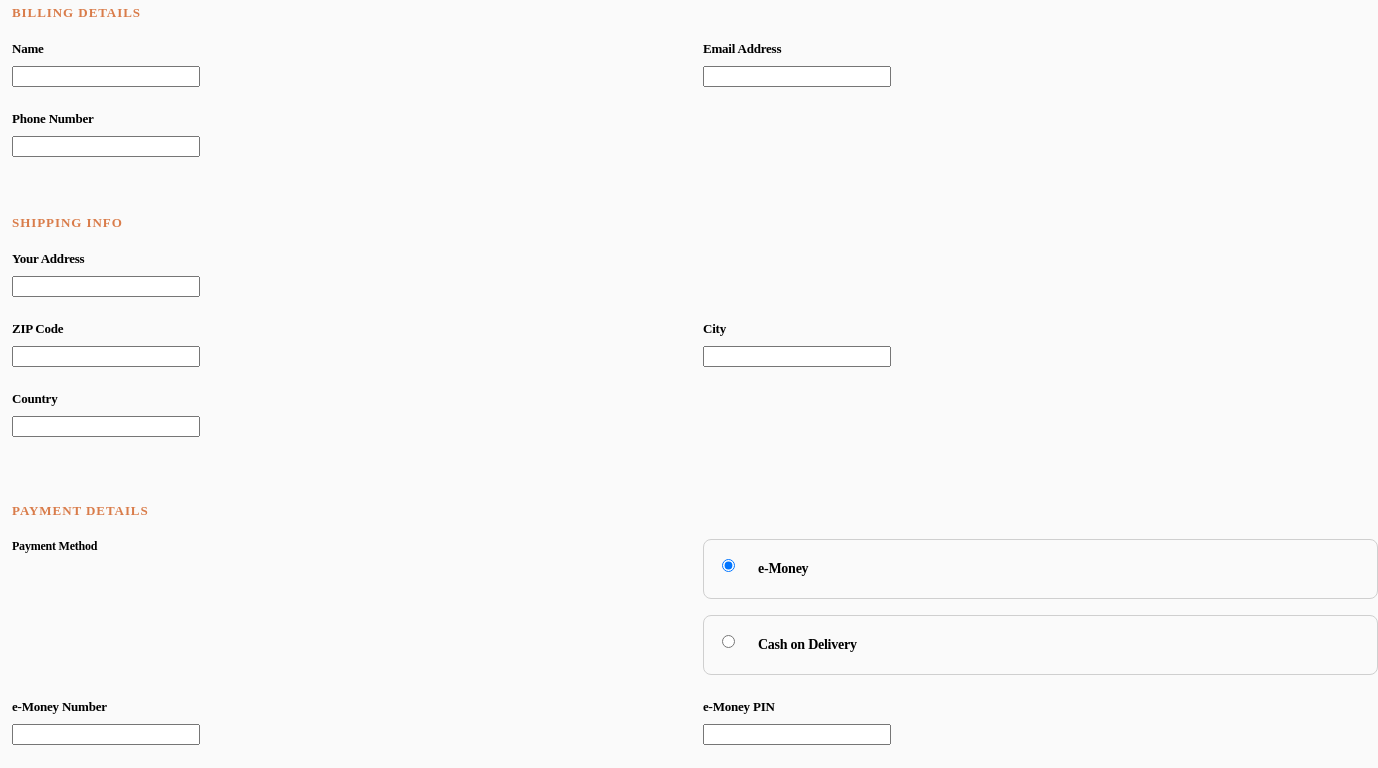
Scenario: BillingDetails › Interactions › Form validation › hides the required error message in Name field after non-empty value is inputted
// Show required error message
Click the field labelled "Name".
click(106, 76)  # box [12,66,200,87]
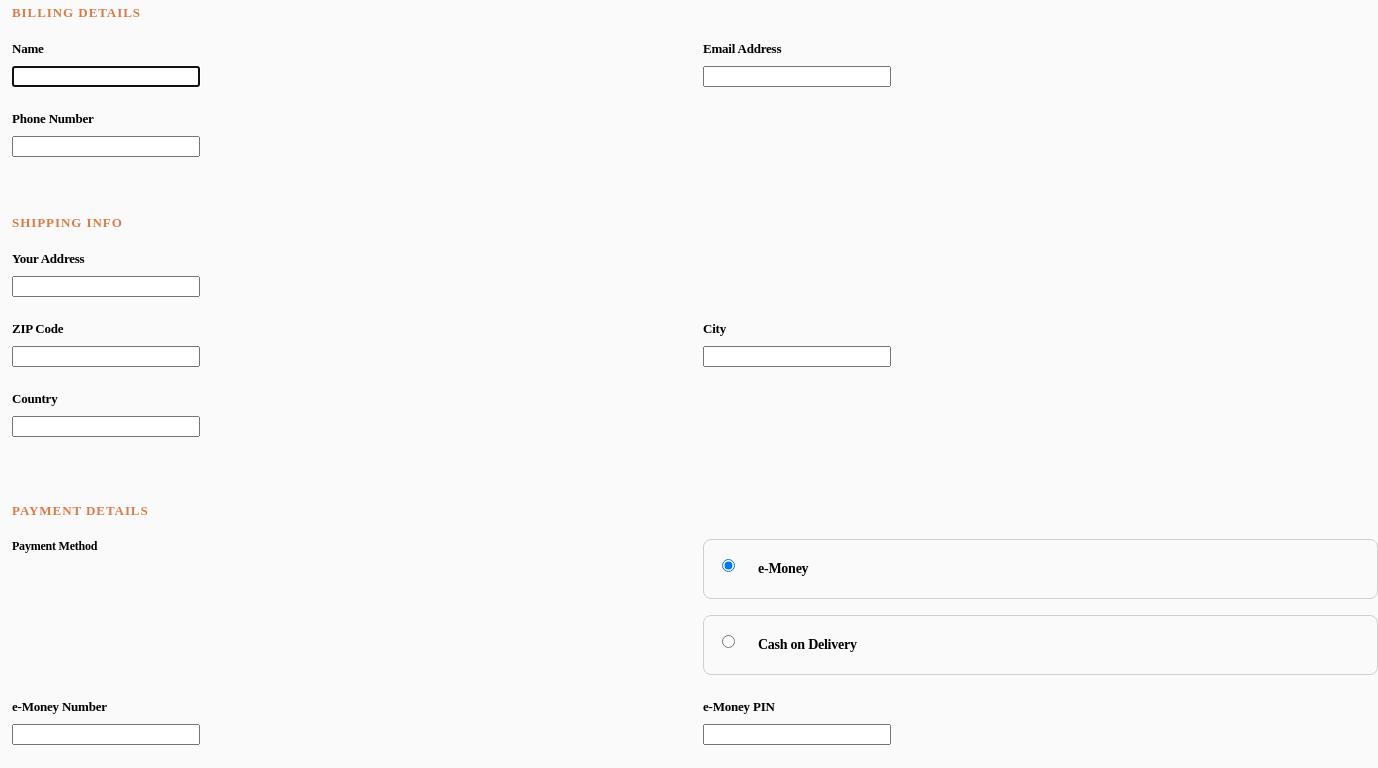
Click the element that starts with "Billing Details".
click(695, 384)  # box [12,0,1377,767]
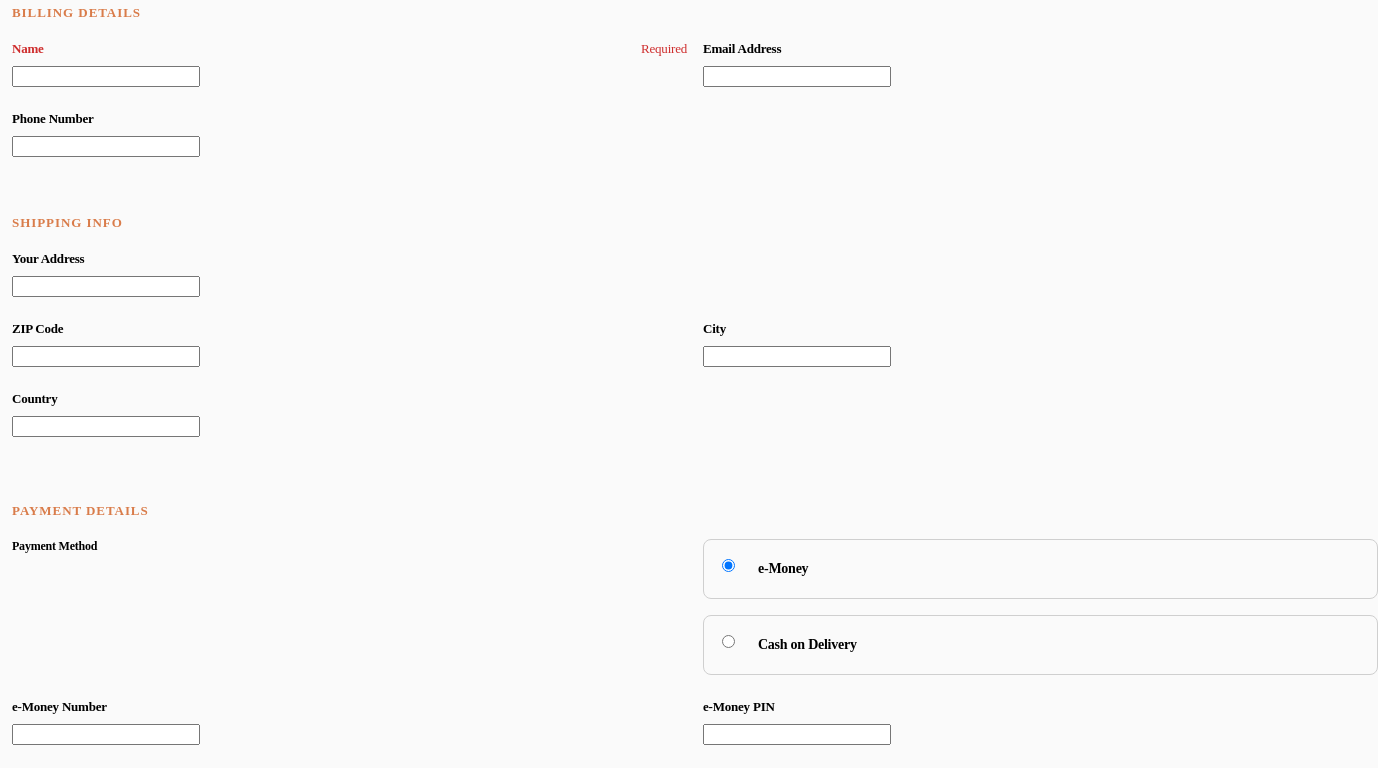
Now the text "Required" is shown, box [641,41,687,57]
// Input something to remove required error message
Type "t" into the field labelled "Name".
click(106, 76); type("t")  # box [12,66,200,87]
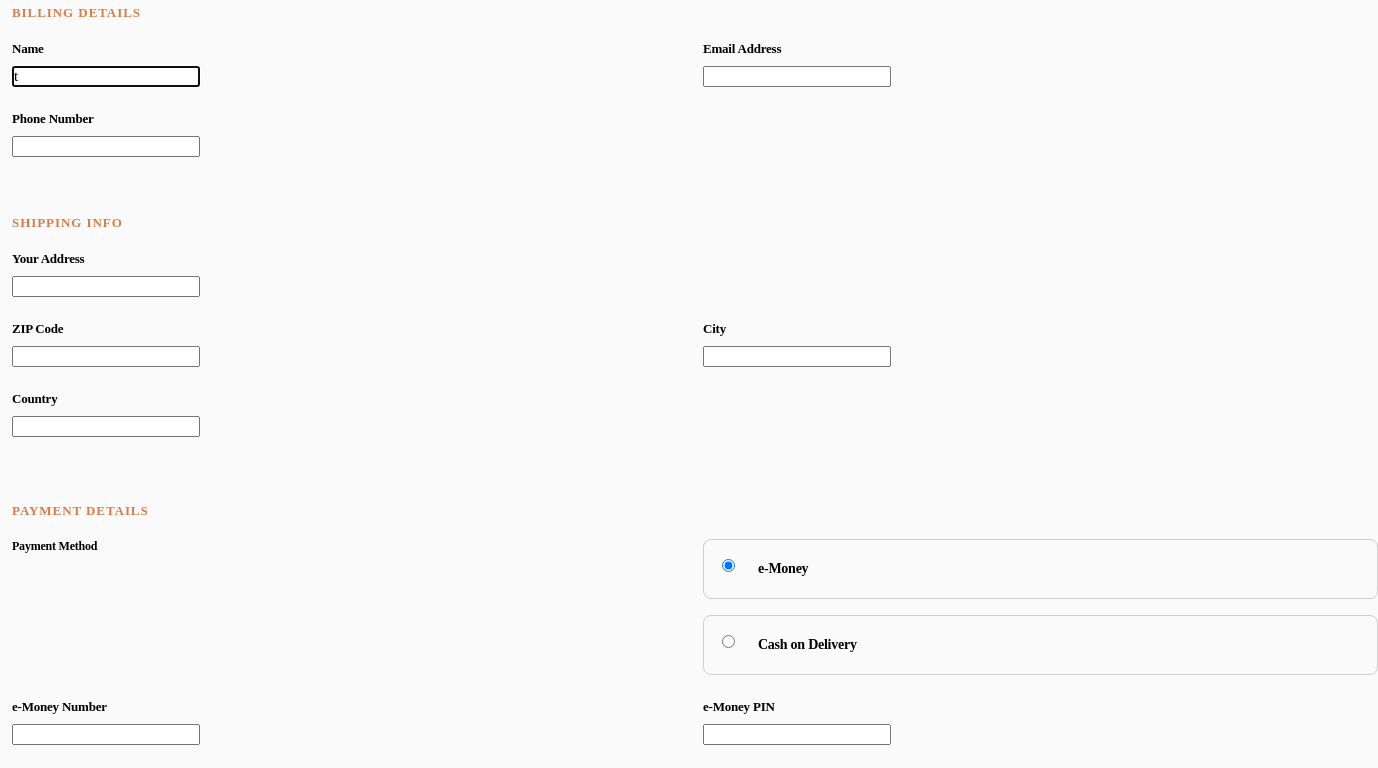
Now the text "Required" is gone
